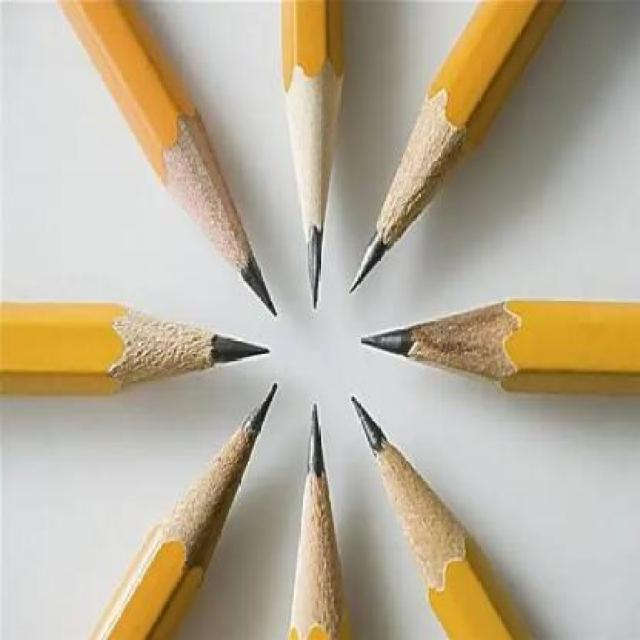pencil: (48, 0, 291, 336), (337, 0, 574, 312), (78, 369, 293, 640), (340, 375, 554, 640), (350, 272, 640, 407), (1, 292, 290, 411), (273, 0, 355, 324), (279, 389, 360, 640)
